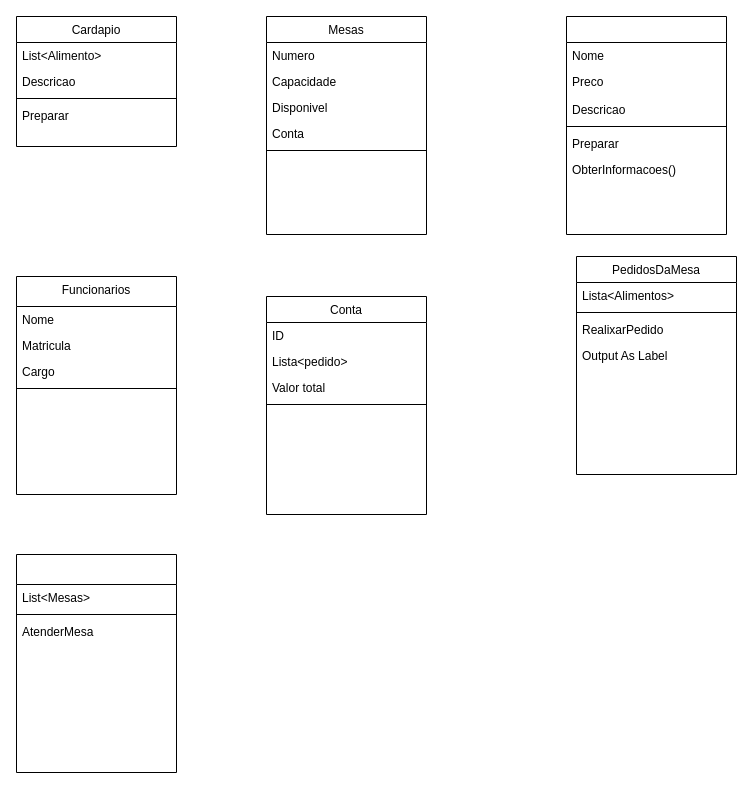
Some shapes in this 753 by 789 pixel diagram are drawn without their labels. Here are the shapes that lost their labels. From the top down, the box of each, then its label:
(566, 16, 726, 234): Alimento
(16, 554, 176, 772): Gacom
